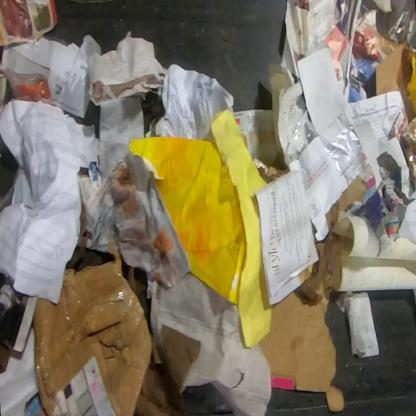cardboard: (258, 174, 370, 412), (32, 239, 153, 415), (374, 40, 416, 124), (268, 62, 293, 169), (252, 156, 291, 184)
